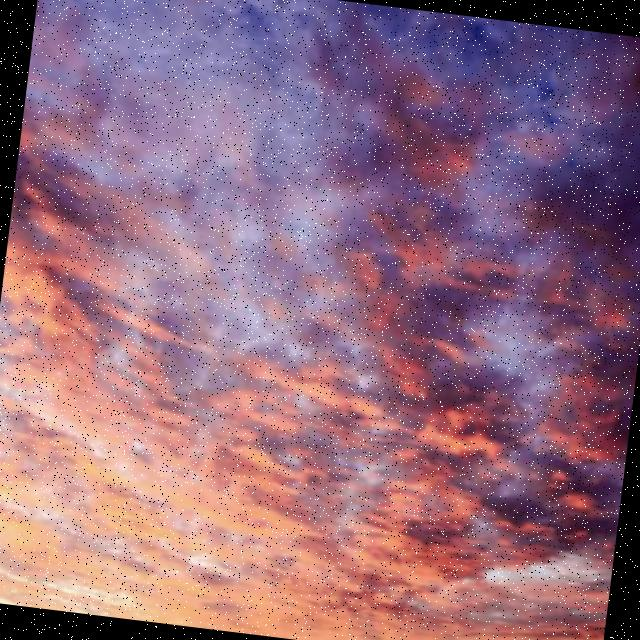Cc: (1, 3, 640, 640)
